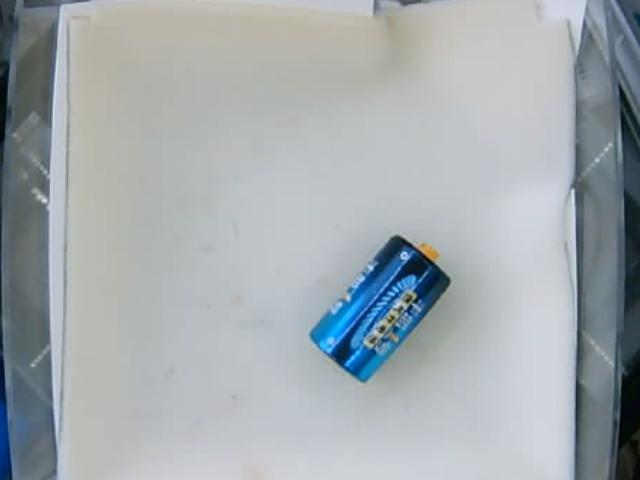Battery: (307, 231, 453, 385)
